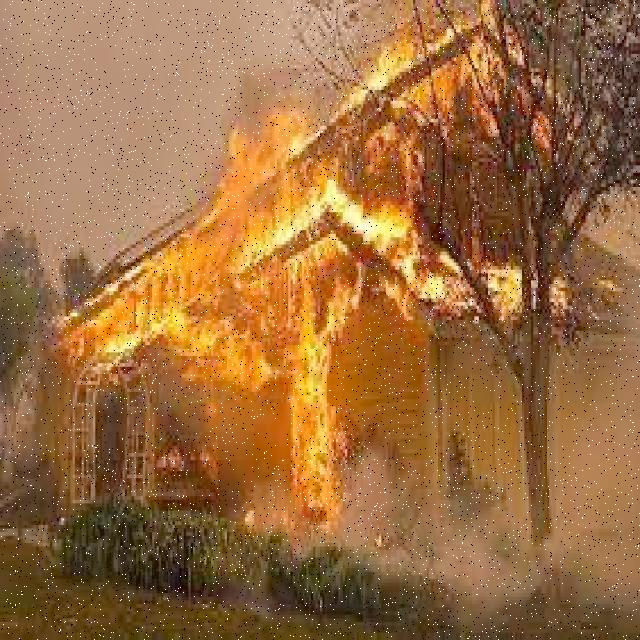fire: (90, 175, 527, 327), (250, 337, 361, 529)
